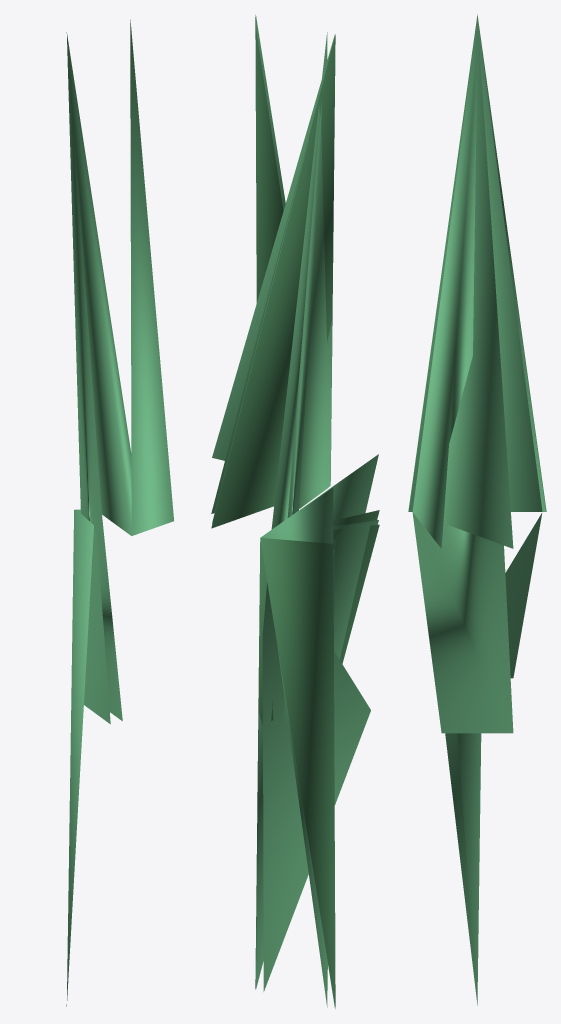
File: equip_legs_adamant_platelegs.glb
The picture shows the model from 3 angles, left to right: view 1: azimuth 30°, elevation 25°; view 2: azimuth 150°, elevation 25°; view 3: azimuth 270°, elevation 25°; orthographic projection.
Parts seen in each view (by area): view 1: equip_legs_adamant_platelegs; view 2: equip_legs_adamant_platelegs; view 3: equip_legs_adamant_platelegs.
Boxes of the visible parts, x1,y1,x2,y2 form: equip_legs_adamant_platelegs: (66,19,173,1006); equip_legs_adamant_platelegs: (211,15,379,1008); equip_legs_adamant_platelegs: (408,14,546,1005).
Bounding box in the file's own units: 0.262 × 2 × 0.262.
